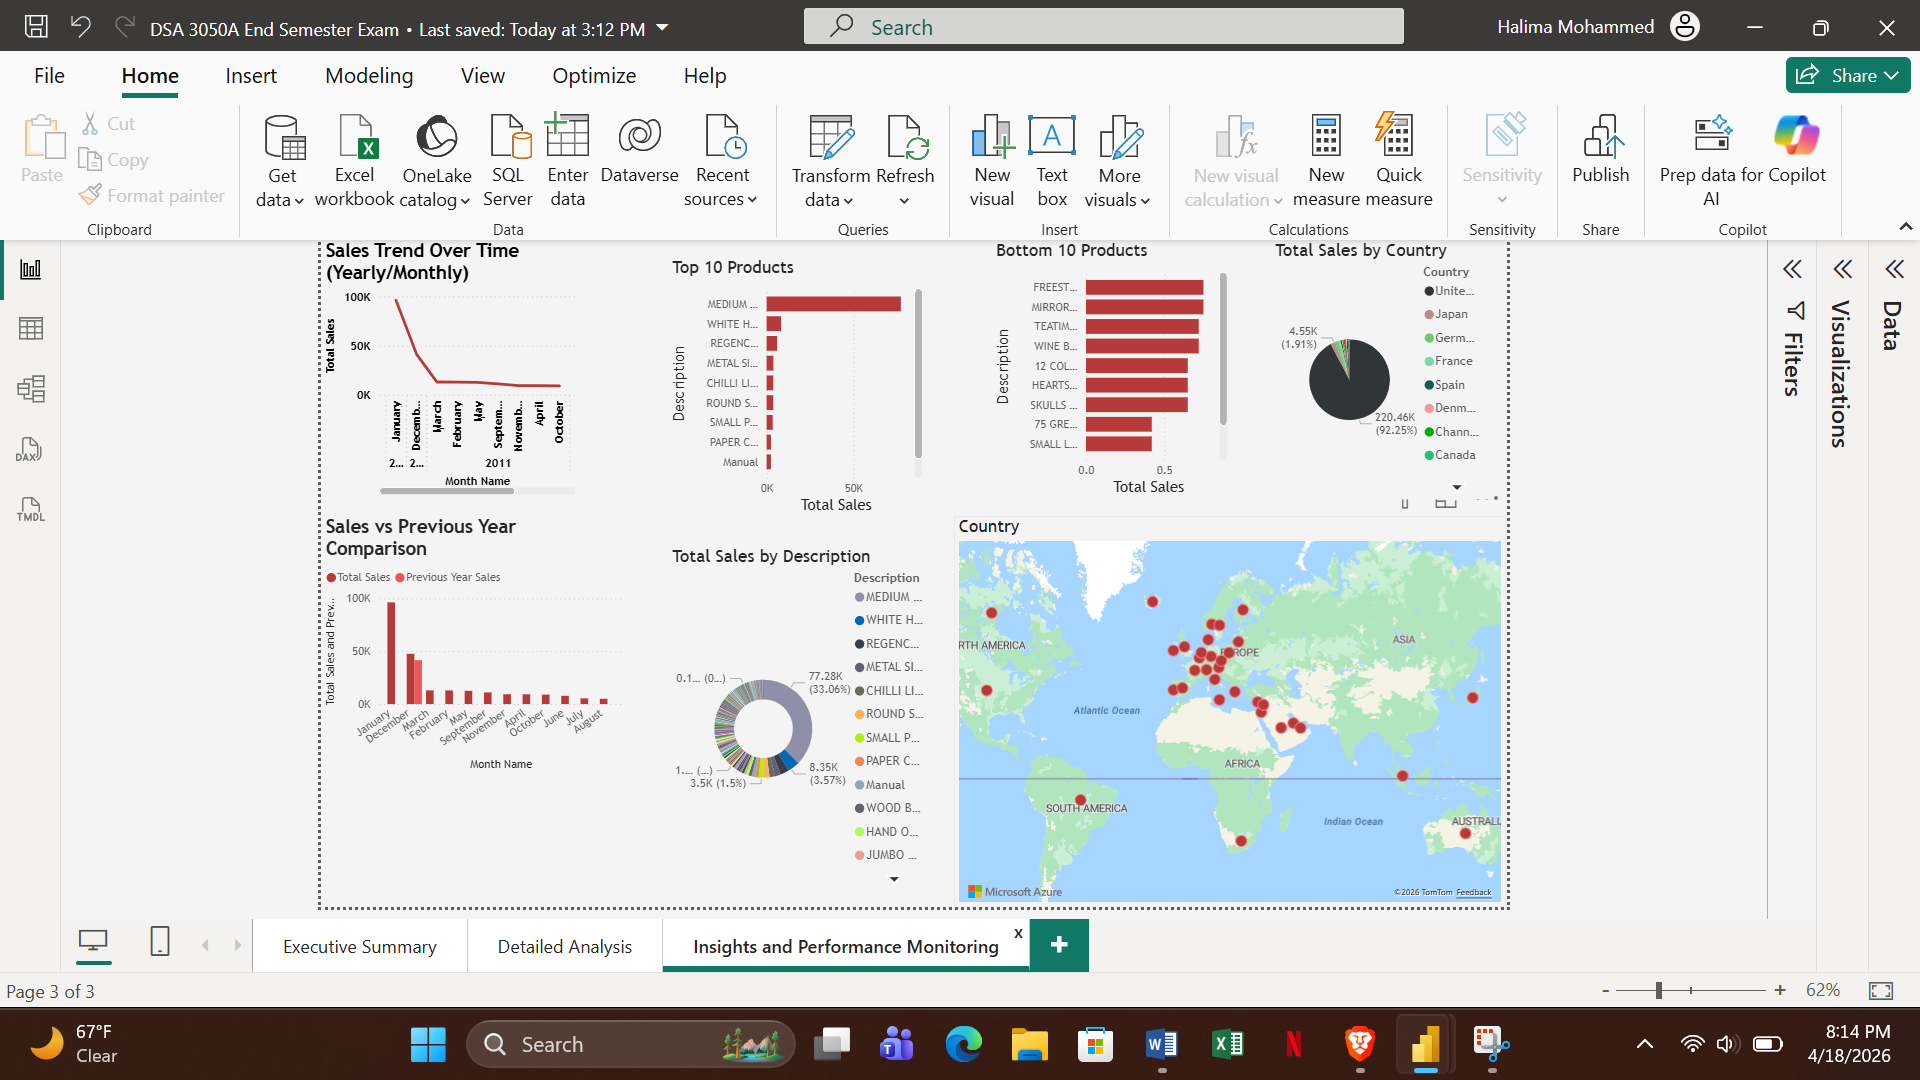

The page's visual inventory and layout, read from the dashboard file:
{"tool":"powerbi","page":{"name":" Insights and Performance Monitoring","canvas":[1280,720],"ordinal":2},"visuals":[{"type":"lineChart","title":"Sales Trend Over Time (Yearly/Monthly)","fields":{"Category":["Dim_Date.Year","Dim_Date.Month Name"],"Y":["Fact_sales.Total Sales"]},"box":[0,0,279.7,279.7],"z":0},{"type":"barChart","title":"Top 10 Products","fields":{"Category":["Dim_Products.Description"],"Y":["Fact_sales.Total Sales"]},"box":[374.2,17,279.7,281.6],"z":1},{"type":"barChart","title":"Bottom 10 Products","fields":{"Y":["Fact_sales.Total Sales"],"Category":["Dim_Products.Description"]},"box":[723.8,0,258.9,279.7],"z":2},{"type":"clusteredColumnChart","title":"Sales vs Previous Year Comparison","fields":{"Y":["Fact_sales.Total Sales","Fact_sales.Previous Year Sales"],"Category":["Fact_sales.Month Name"]},"box":[0,298.6,330.7,279.7],"z":3},{"type":"azureMap","fields":{"Category":["Dim_Customers.Country"]},"box":[684.1,298.6,595.3,421.4],"z":5},{"type":"pieChart","fields":{"Y":["Fact_sales.Total Sales"],"Category":["Dim_Customers.Country"]},"box":[1024.3,0,240,279.7],"z":6},{"type":"donutChart","fields":{"Category":["Dim_Products.Description"],"Y":["Fact_sales.Total Sales"]},"box":[374,330.3,291.5,372.4],"z":7}]}

Visuals, with their boxes on the page's 1280x720 design canvas (x1, y1, x2, y2). These are canvas units, not pixel positions in the 1920x1080 screenshot, which may show the page scaled, cropped or inside an application window:
"Sales Trend Over Time (Yearly/Monthly)" lineChart: (x1=0, y1=0, x2=280, y2=280)
"Top 10 Products" barChart: (x1=374, y1=17, x2=654, y2=299)
"Bottom 10 Products" barChart: (x1=724, y1=0, x2=983, y2=280)
"Sales vs Previous Year Comparison" clusteredColumnChart: (x1=0, y1=299, x2=331, y2=578)
azureMap - Dim_Customers.Country: (x1=684, y1=299, x2=1279, y2=720)
pieChart - Fact_sales.Total Sales x Dim_Customers.Country: (x1=1024, y1=0, x2=1264, y2=280)
donutChart - Dim_Products.Description x Fact_sales.Total Sales: (x1=374, y1=330, x2=666, y2=703)
